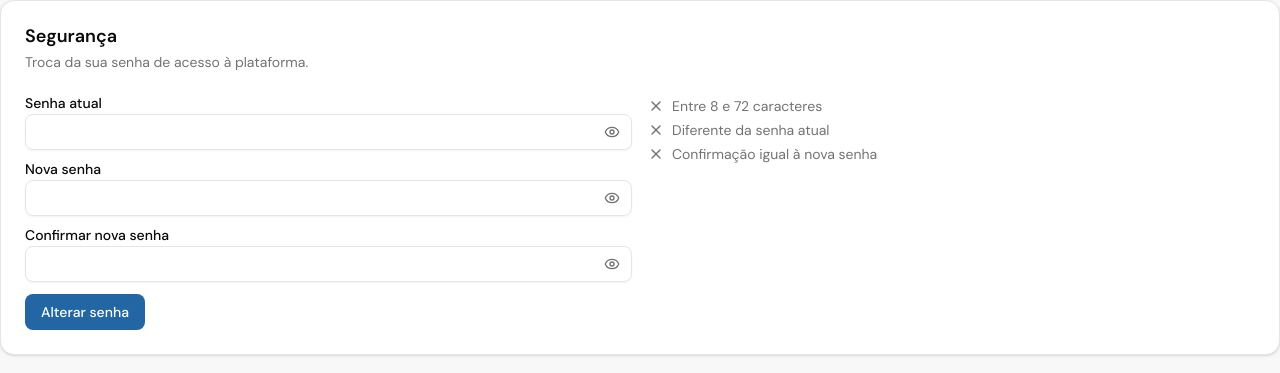
it: SegurancaSection — ligada (só no teste) › 429 → muitas tentativas
The width and height of the screenshot is (1280, 373).
Type "antiga-123456" into the password field labelled "Senha atual". click: (328, 132)
box: [25,114,632,150]
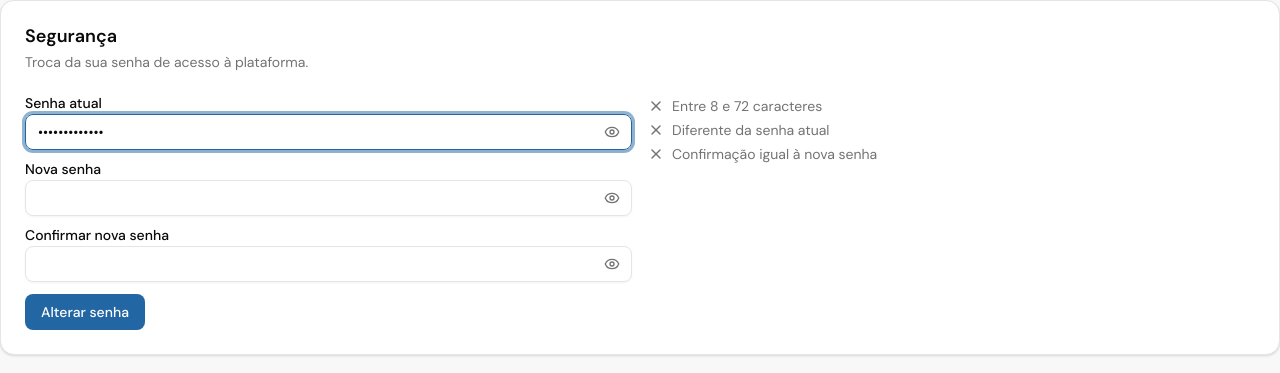
Type "NovaSenha-2026x" into the password field labelled "Nova senha". click: (328, 198)
box: [25,180,632,216]
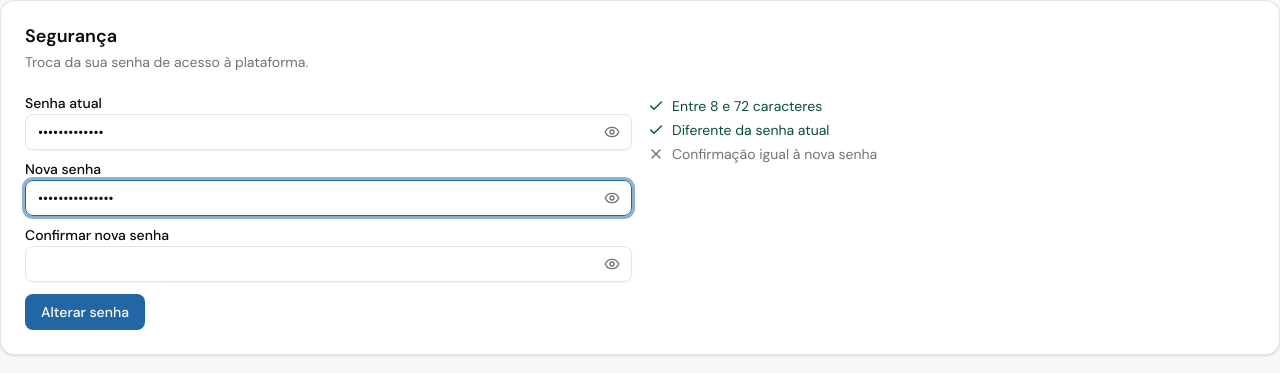
Type "NovaSenha-2026x" into the password field labelled "Confirmar nova senha". click: (328, 264)
box: [25,246,632,282]
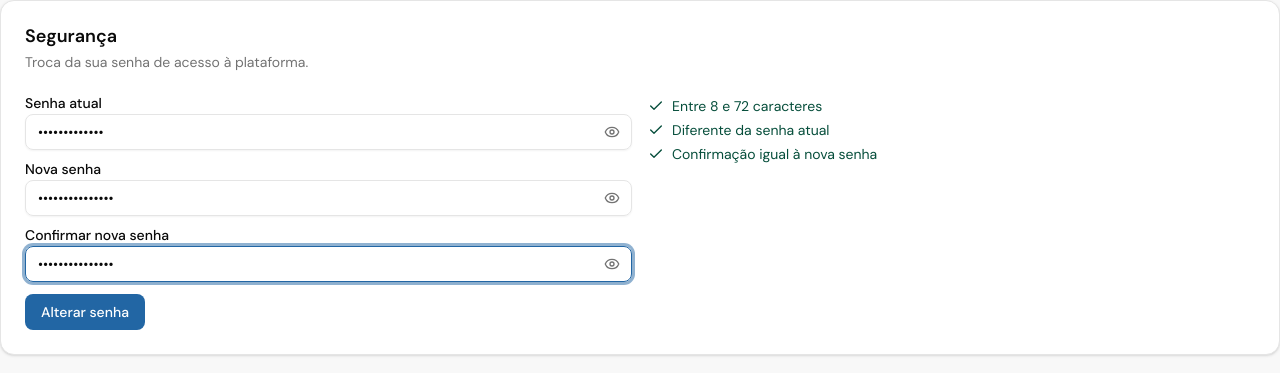
Click the button "Alterar senha". click: (85, 312)
box: [25,294,145,330]
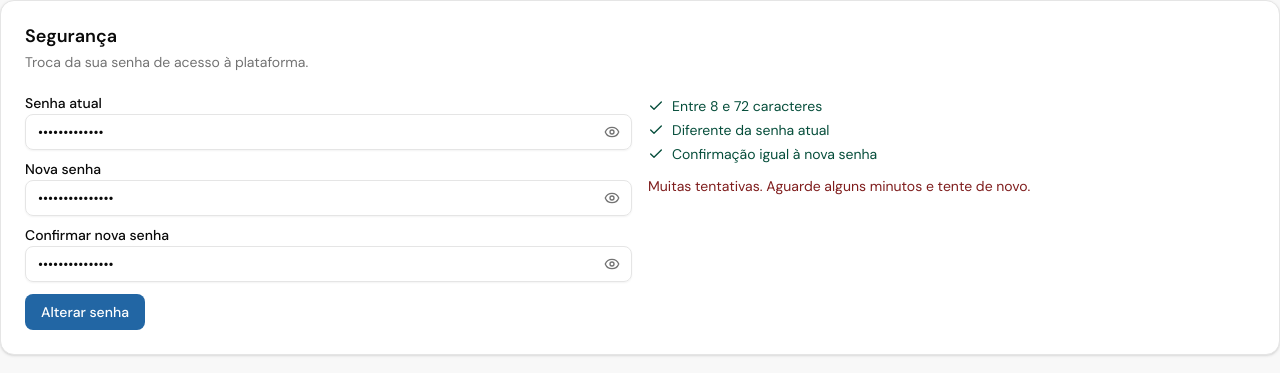
Now the text "Muitas tentativas. Aguarde alguns minutos e tente de novo." is shown, box [648,176,1030,194]
